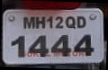character: (50, 33, 71, 57), (73, 34, 94, 56), (29, 34, 48, 57), (10, 35, 25, 58), (22, 16, 35, 30), (65, 15, 76, 30), (35, 16, 45, 29), (76, 15, 86, 28), (54, 15, 63, 29), (46, 15, 53, 29)
